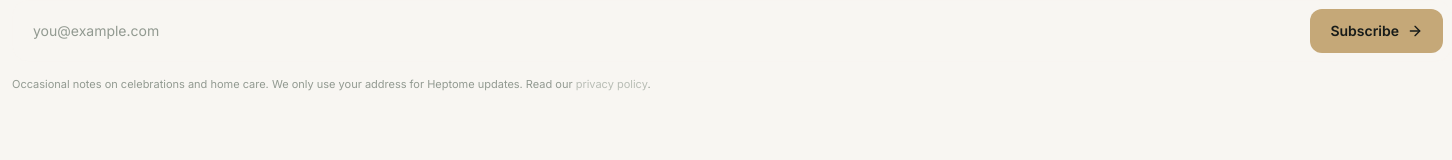
Scenario: FooterNewsletter › validates the address before calling the API
Click the button "Subscribe": x=1377, y=31 top-left (1310, 9), bottom-right (1443, 53)
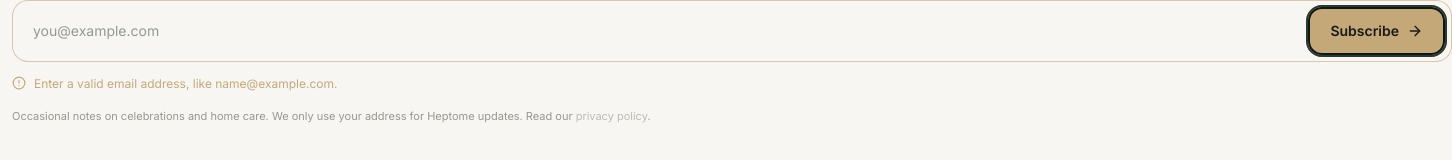
Check: the message shows "Enter a valid email address", box top-left (34, 76), bottom-right (337, 91)
